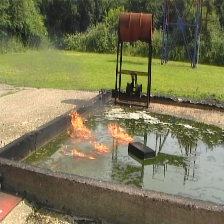fire_h: (67, 108, 94, 140), (107, 123, 132, 142)
fire_l: (70, 148, 94, 160), (94, 141, 108, 153)
